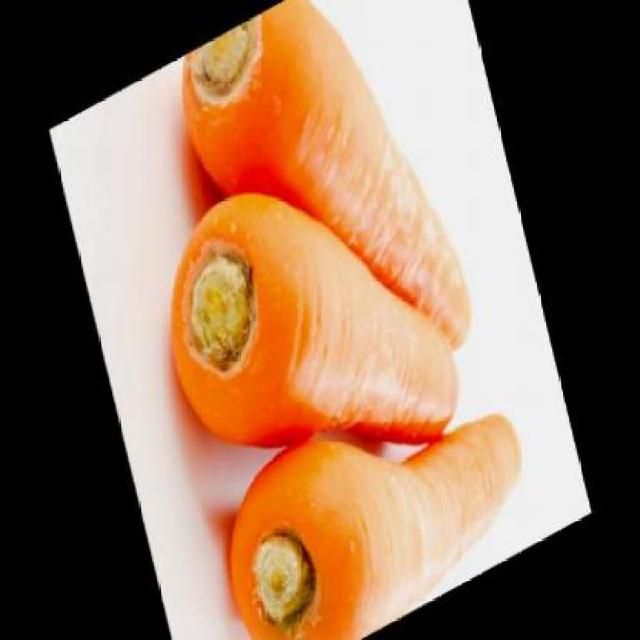carrot: (144, 105, 468, 557), (171, 0, 480, 454), (207, 332, 542, 639)
